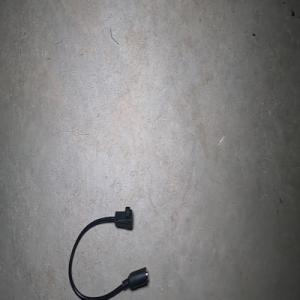Wire: (68, 206, 149, 300)
